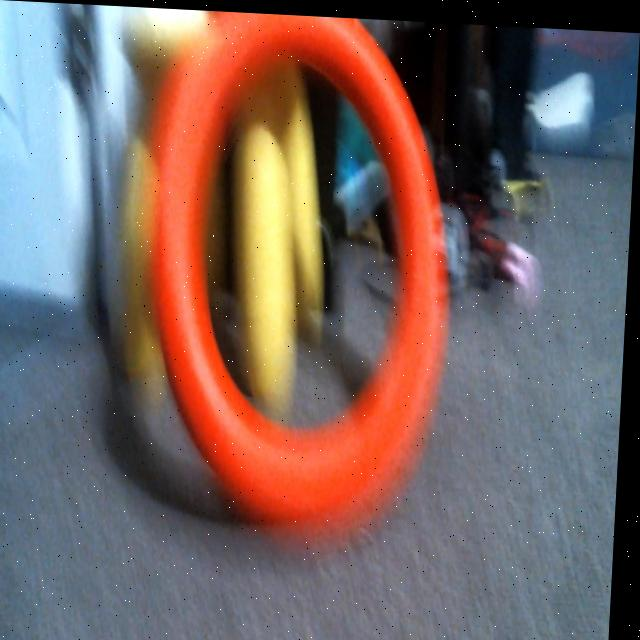note: (141, 7, 461, 542)
